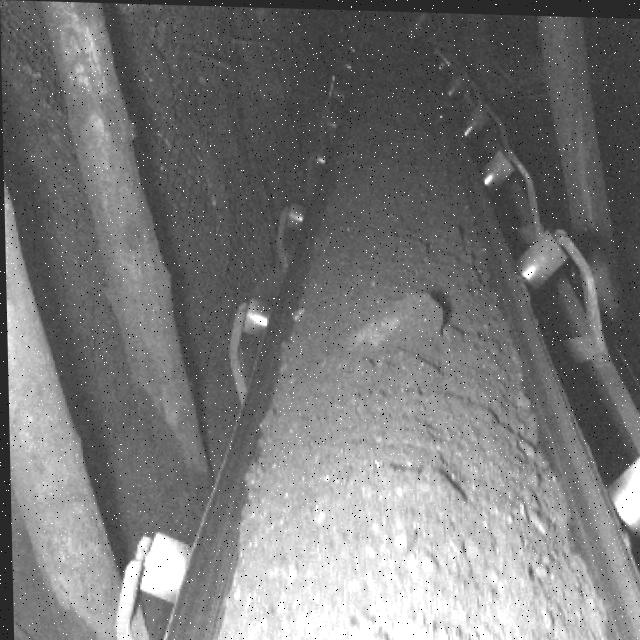large_sized_coal: (345, 283, 444, 351)
